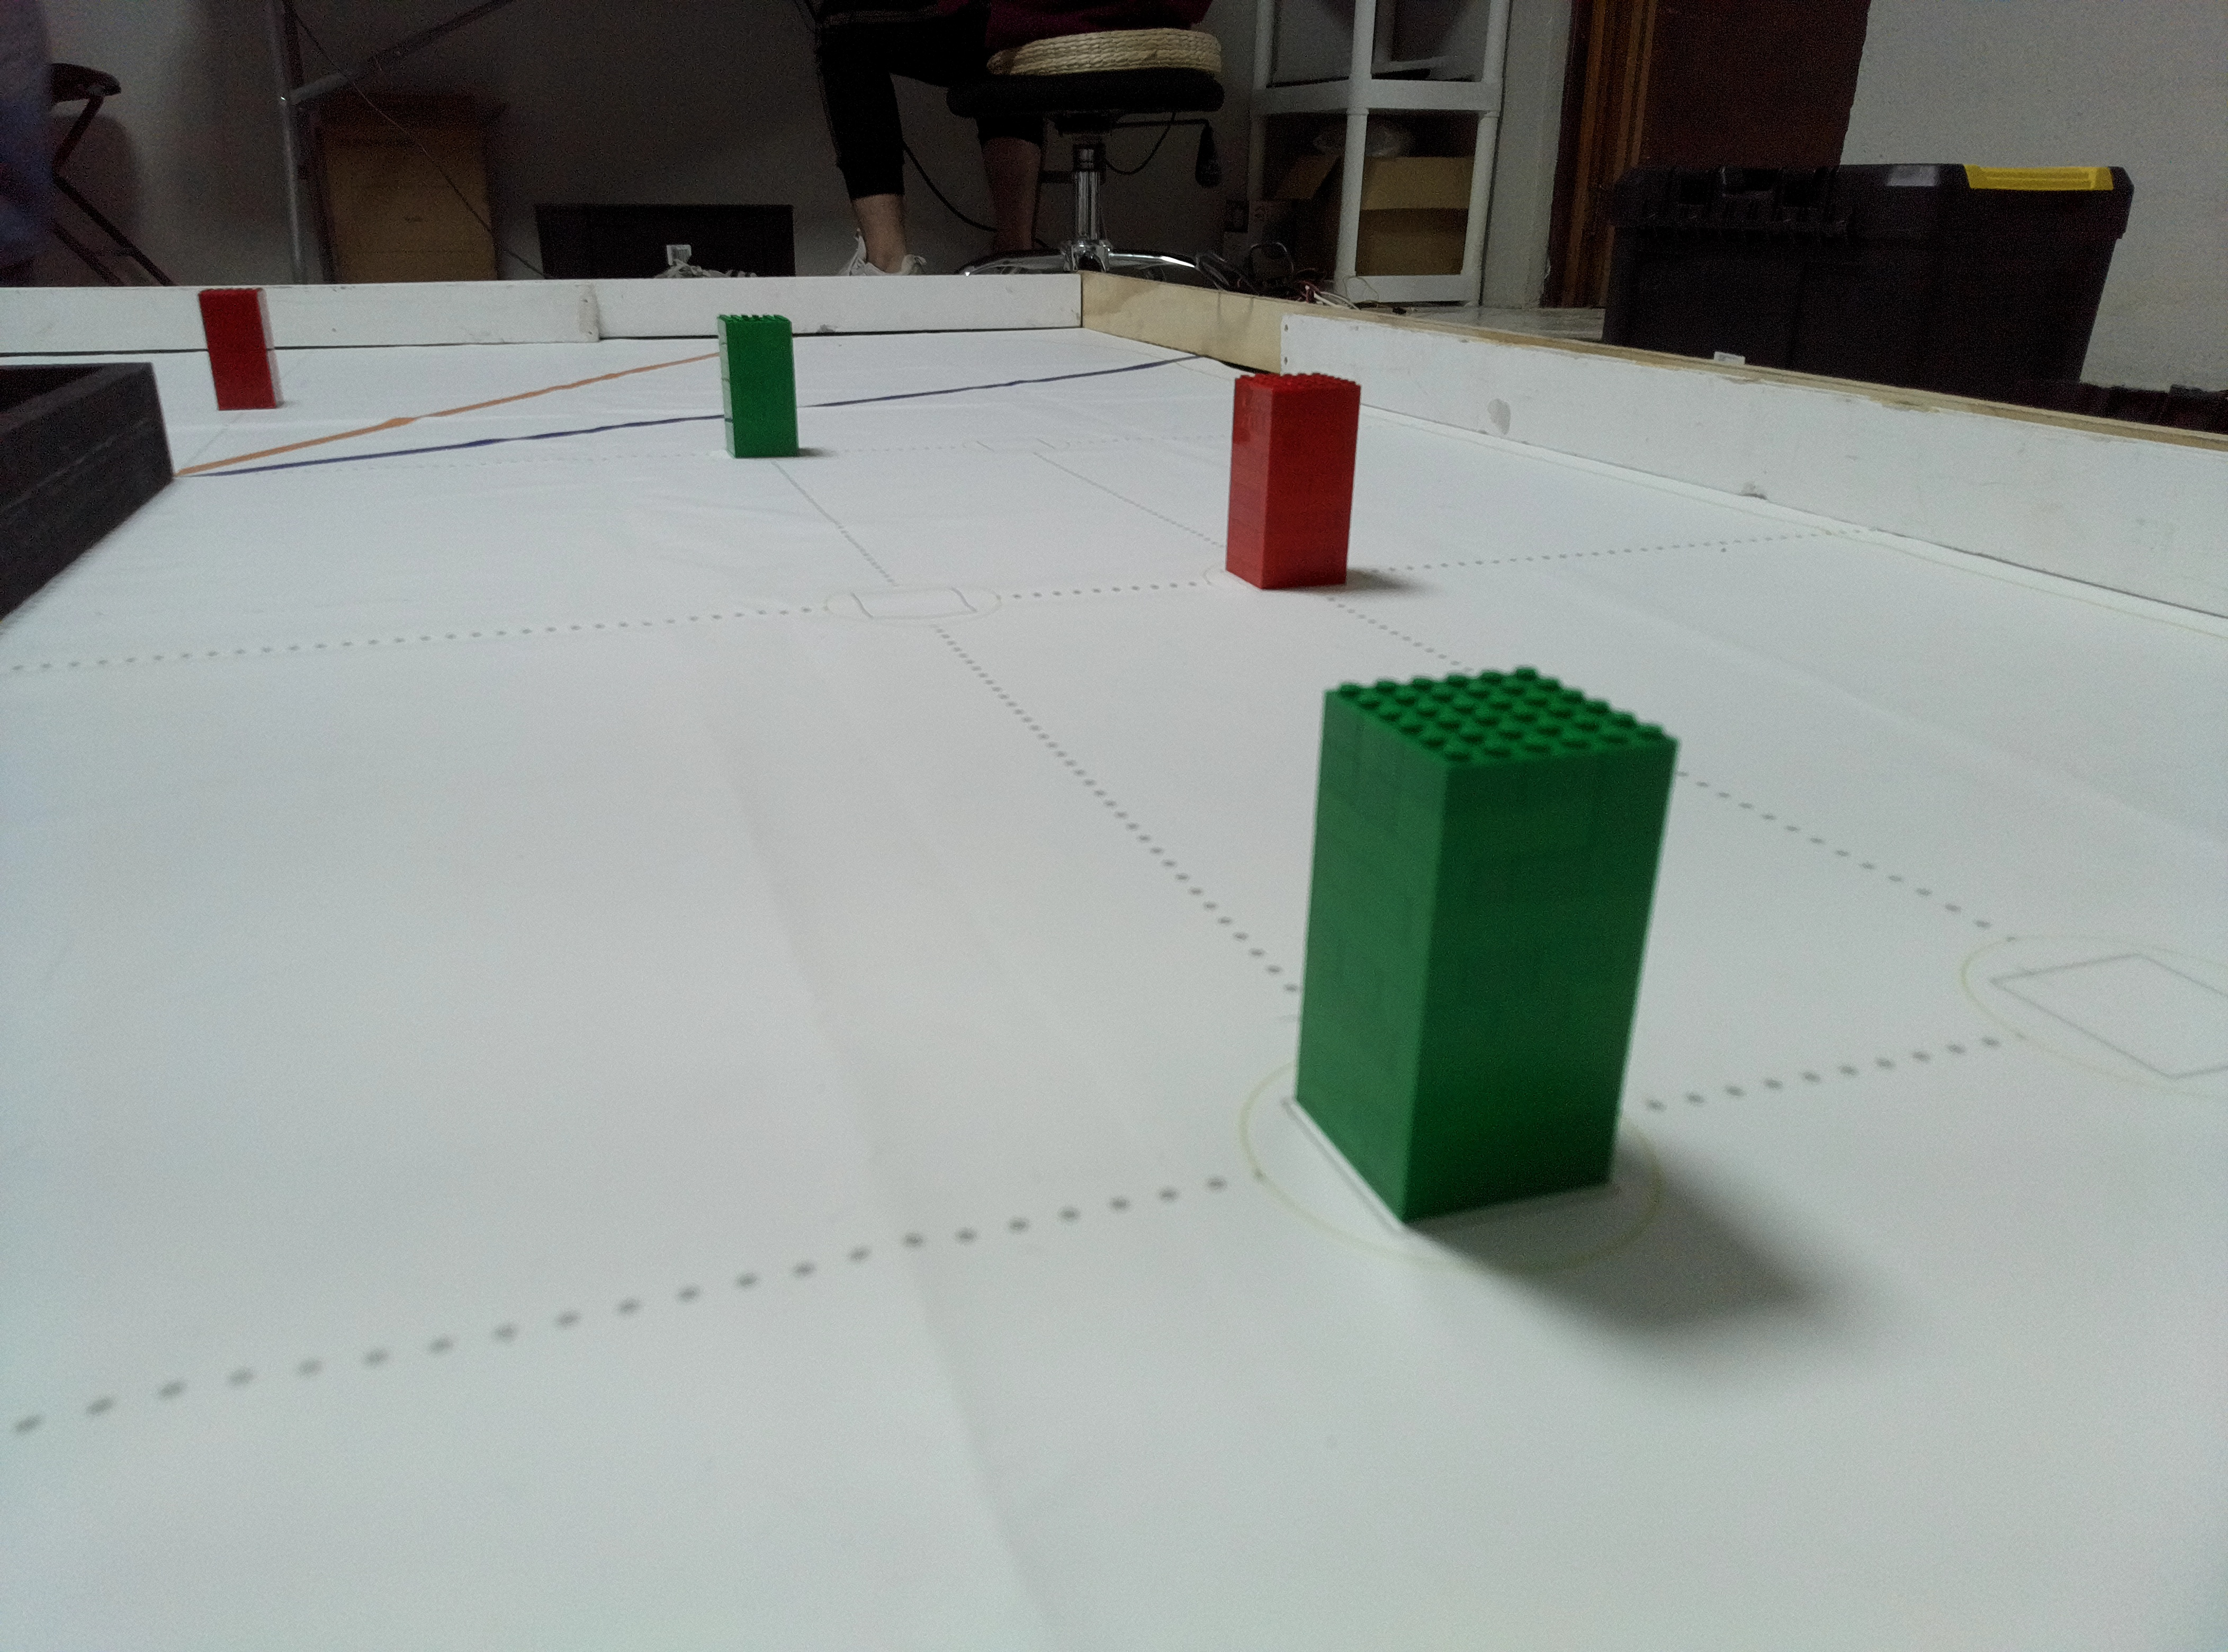greenbox: (1282, 663, 1680, 1232), (715, 311, 805, 460)
redbox: (1235, 357, 1366, 592), (198, 286, 290, 410)
